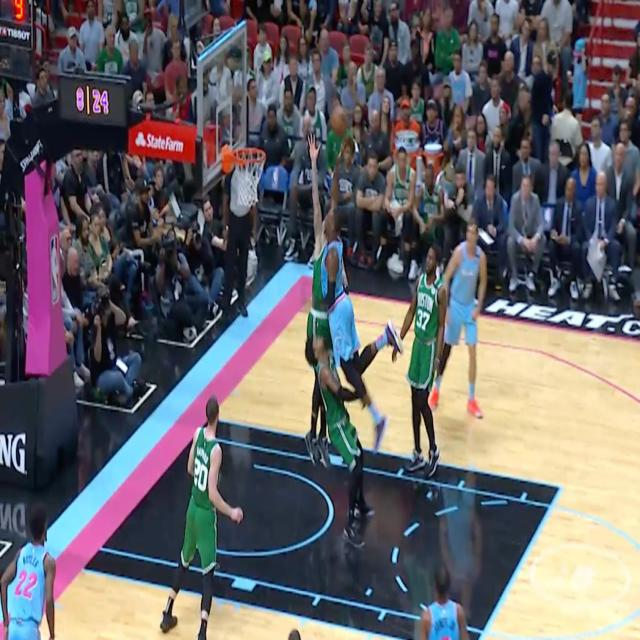Foul: (308, 204, 363, 542)
